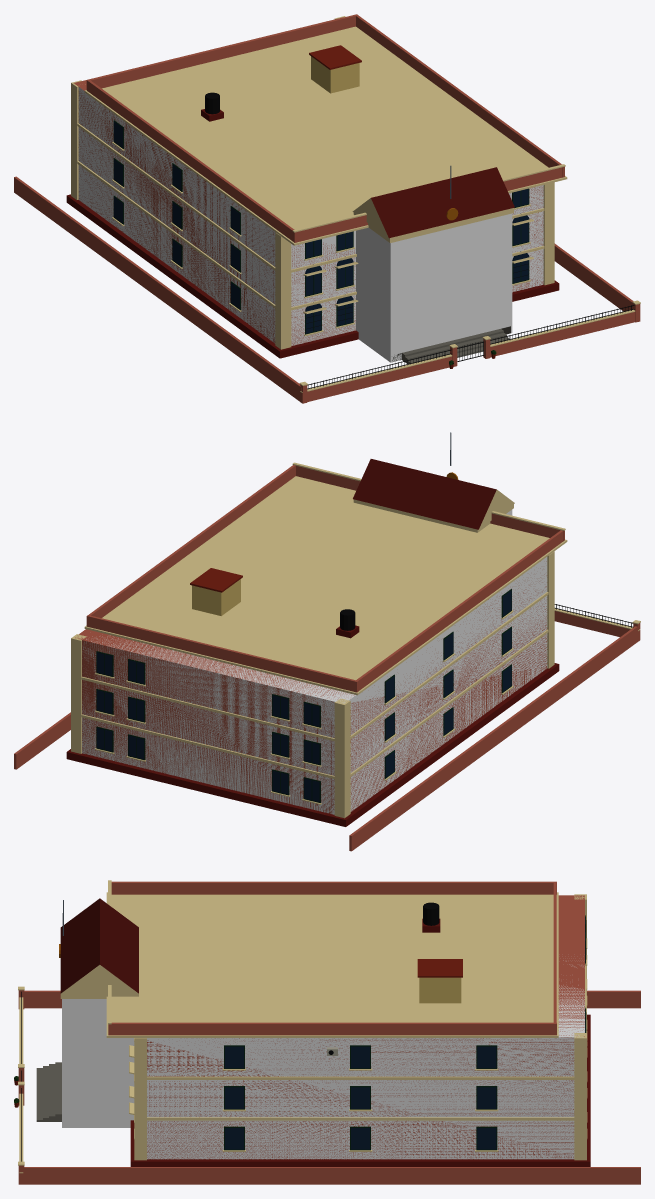
File: B26_govt_office.glb
3 views of the same model, one above another, from view 1: azimuth 30°, elevation 25°; view 2: azimuth 150°, elevation 25°; view 3: azimuth 270°, elevation 25° (orthographic). The views are drawn at different scales.
Visible parts, largest first — view 1: LOD0, COL_Main, COL_Verandah; view 2: LOD0, COL_Main; view 3: LOD0, COL_Main, COL_Verandah.
Part boxes in pixels (x1,y1,x2,y2): LOD0: [14, 14, 640, 403]; COL_Main: [78, 87, 543, 345]; COL_Verandah: [356, 213, 512, 362]; LOD0: [14, 432, 640, 851]; COL_Main: [82, 557, 547, 814]; LOD0: [14, 880, 640, 1184]; COL_Main: [147, 960, 584, 1159]; COL_Verandah: [62, 999, 134, 1127].
Size of what is drawn, in the model's own units: 30.04 by 15.4 by 44.73.
